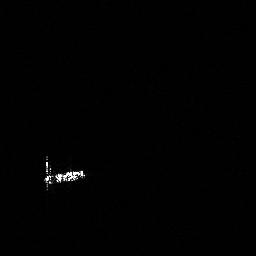ship: (39, 153, 88, 193)
